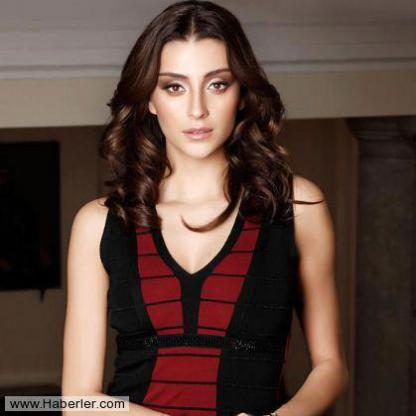long-hair: (96, 159, 306, 198)
